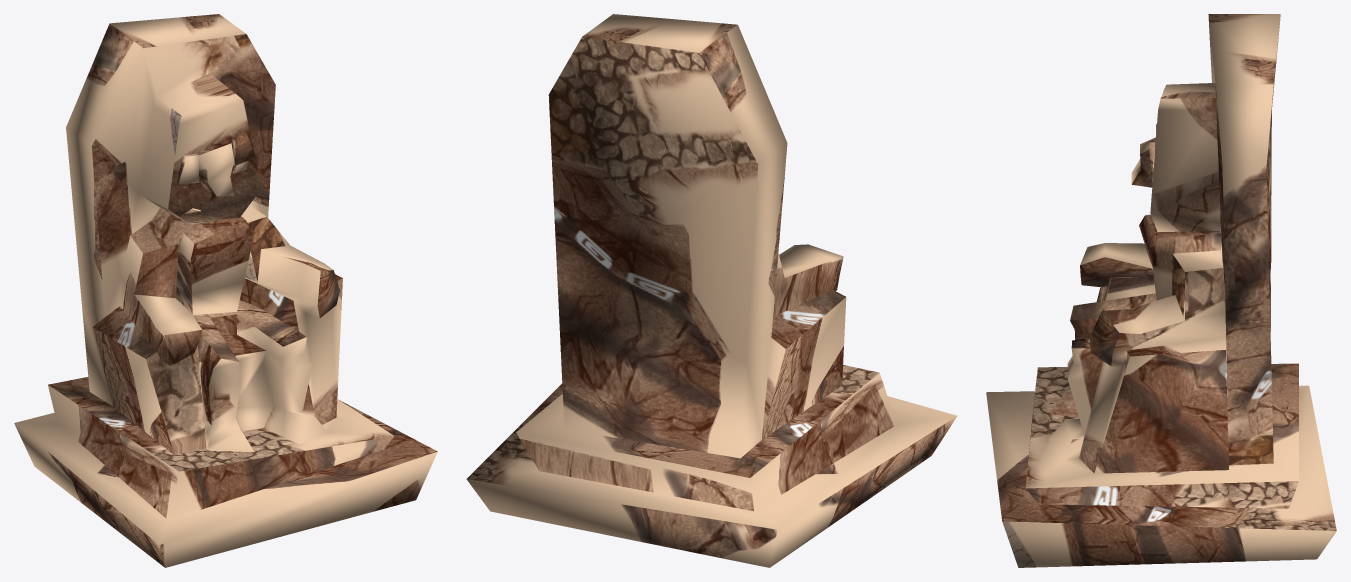
The model's file is MomentumOfTheGods.fbx.
The picture shows the model from 3 angles, left to right: view 1: azimuth 30°, elevation 25°; view 2: azimuth 150°, elevation 25°; view 3: azimuth 270°, elevation 25°; orthographic projection. The views are drawn at different scales.
Parts seen in each view (by area): view 1: MoMentumOfThe gods; view 2: MoMentumOfThe gods; view 3: MoMentumOfThe gods.
Boxes of the visible parts, <box> form: MoMentumOfThe gods: <box>14,14,437,567</box>; MoMentumOfThe gods: <box>466,14,957,567</box>; MoMentumOfThe gods: <box>986,14,1336,567</box>.
Bounding box in the file's own units: 1320 × 1902 × 1317.
